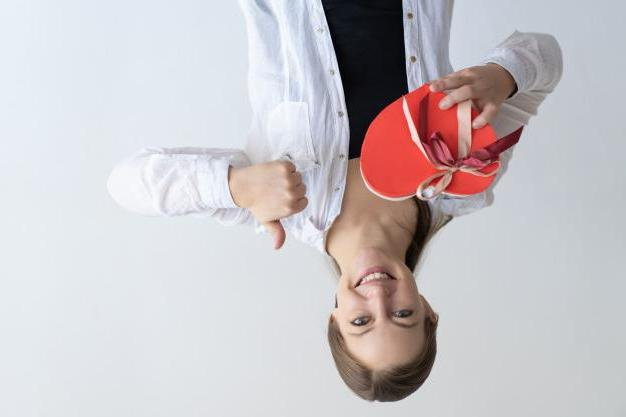thumbsdown: (263, 161, 308, 250)
